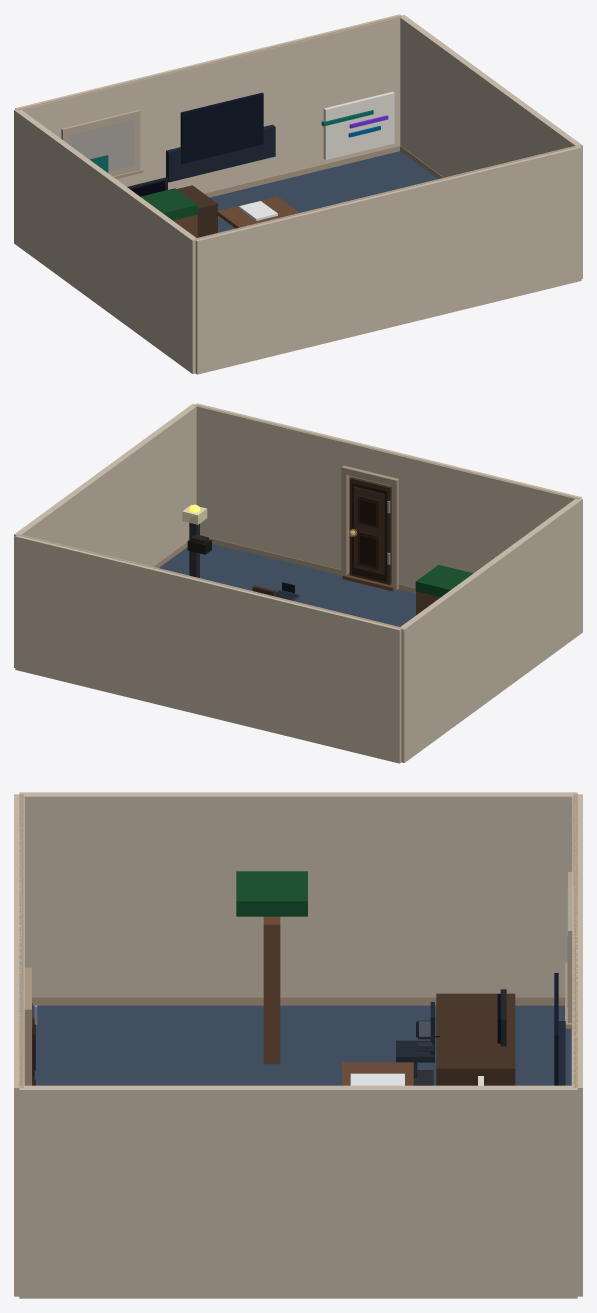
File: studio.glb
3 renders of one model, top to bottom at view 1: azimuth 30°, elevation 25°; view 2: azimuth 150°, elevation 25°; view 3: azimuth 270°, elevation 25°, orthographic. The views are drawn at different scales.
Parts seen in each view (by area): view 1: Wall_Front, Wall_Back, Wall_Left, Wall_Right, Floor, TVBezel, Window_Frame, ProjectBoard, TVStand, Window_Glass, Baseboard_Back, PlantPot (+5 smaller); view 2: Wall_Back, Wall_Front, Wall_Left, Wall_Right, Floor, DoorRaisedCenter, PlantPot, DoorSlab, DoorInnerShadow, Baseboard_Front, DoorJambLeft, DoorJambRight (+4 smaller); view 3: Wall_Right, Wall_Left, Floor, Desk, Wall_Back, Baseboard_Left, Wall_Front, PlantPot, Bookshelf, Molding_Back, Molding_Front, ResumeTray (+3 smaller).
Boxes of the visible parts, x1,y1,x2,y2 form: Wall_Front: [194, 145, 581, 374]; Wall_Back: [15, 14, 402, 193]; Wall_Left: [14, 109, 196, 373]; Wall_Right: [399, 15, 582, 278]; Floor: [210, 151, 437, 232]; TVBezel: [180, 92, 263, 164]; Window_Frame: [61, 110, 140, 176]; ProjectBoard: [323, 91, 394, 159]; TVStand: [166, 124, 275, 182]; Window_Glass: [69, 119, 133, 170]; Baseboard_Back: [204, 145, 399, 197]; PlantPot: [140, 188, 198, 220]; Wall_Back: [15, 534, 402, 763]; Wall_Front: [196, 403, 581, 587]; Wall_Left: [400, 498, 582, 762]; Wall_Right: [14, 404, 196, 667]; Floor: [159, 544, 415, 626]; DoorRaisedCenter: [354, 487, 384, 574]; PlantPot: [415, 565, 472, 597]; DoorSlab: [349, 477, 391, 584]; DoorInnerShadow: [351, 482, 387, 581]; Baseboard_Front: [209, 537, 415, 593]; DoorJambLeft: [391, 483, 398, 590]; DoorJambRight: [341, 471, 348, 577]; Wall_Right: [19, 1085, 577, 1298]; Wall_Left: [19, 792, 577, 996]; Floor: [32, 1005, 571, 1085]; Desk: [436, 993, 515, 1085]; Wall_Back: [572, 794, 582, 1296]; Baseboard_Left: [32, 997, 564, 1005]; Wall_Front: [14, 794, 24, 1296]; PlantPot: [236, 871, 307, 916]; Bookshelf: [263, 916, 280, 1064]; Molding_Back: [573, 794, 577, 1087]; Molding_Front: [19, 794, 23, 1087]; ResumeTray: [342, 1062, 413, 1085].
Bounding box in the file's own units: 9.34 × 3.06 × 7.54.
